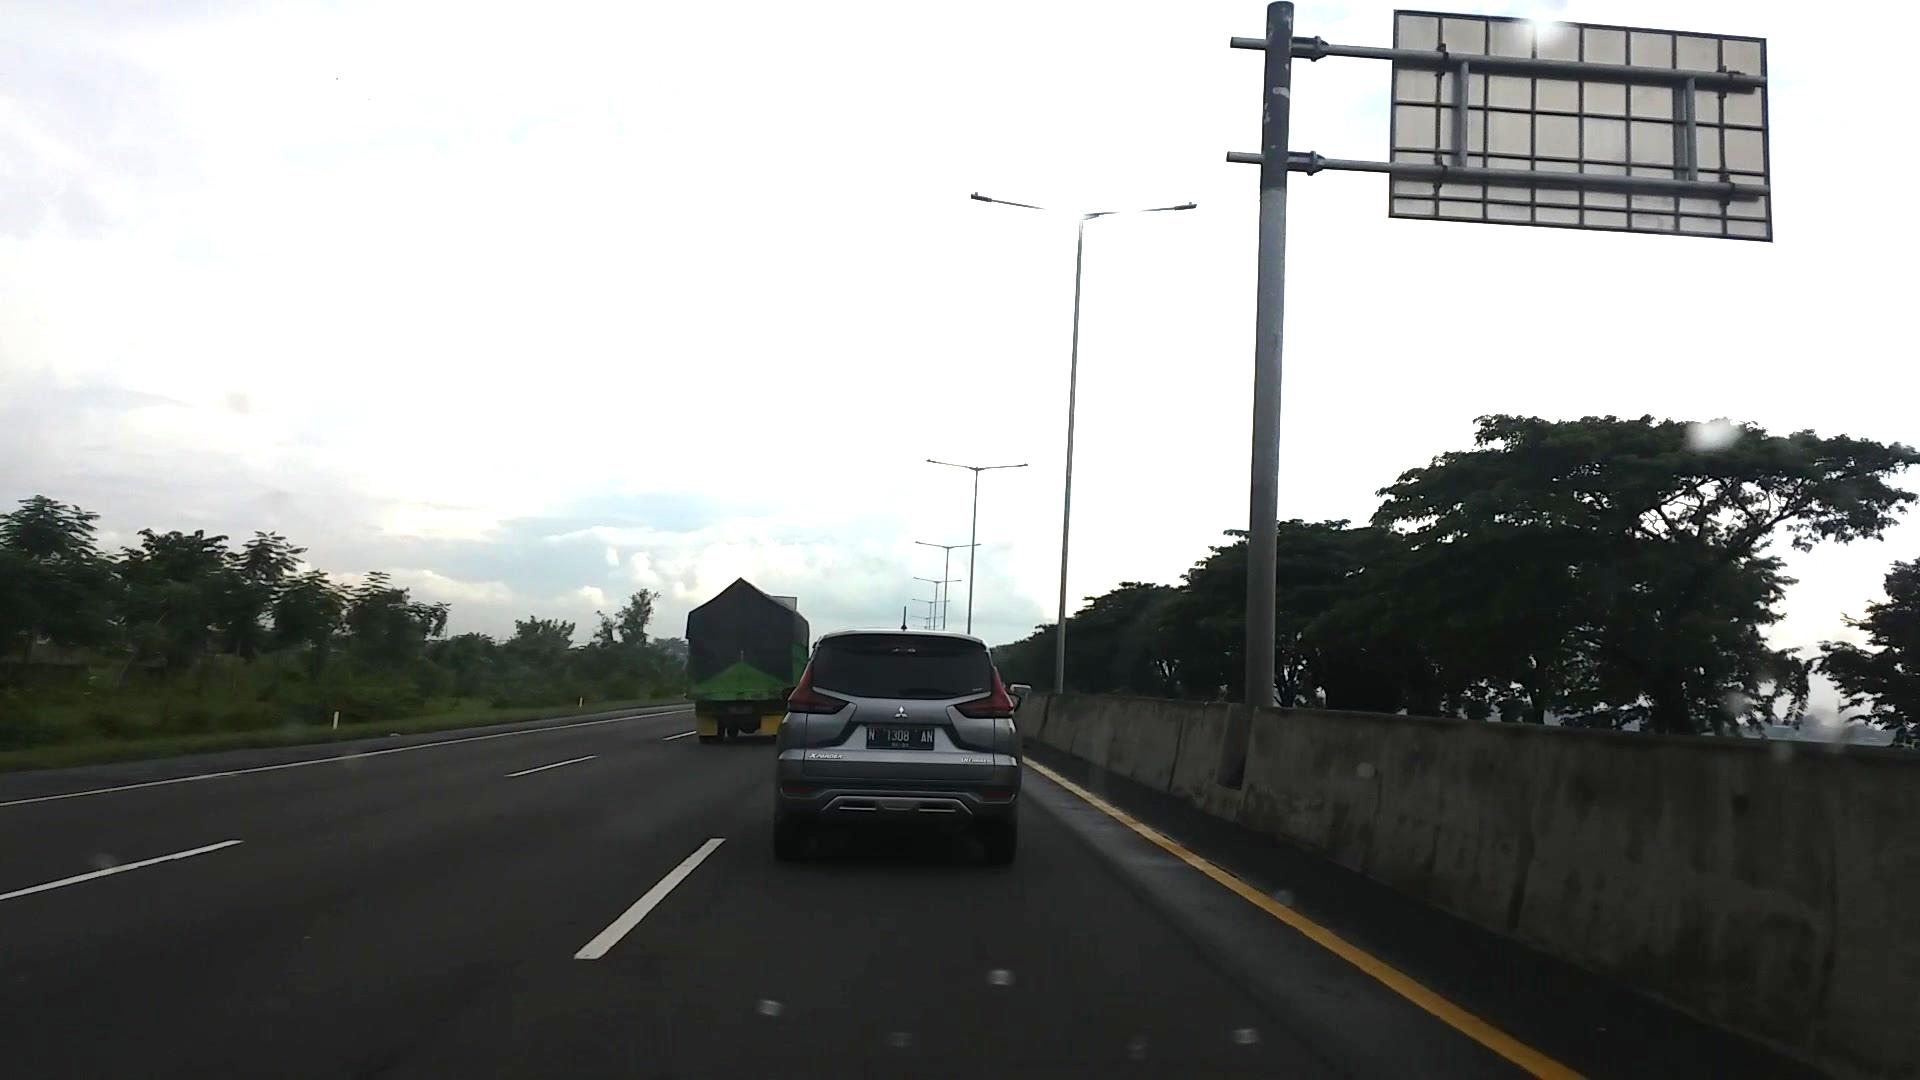plate_positive: (866, 725, 935, 752)
